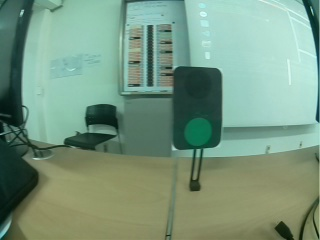green_light: (170, 63, 224, 153)
